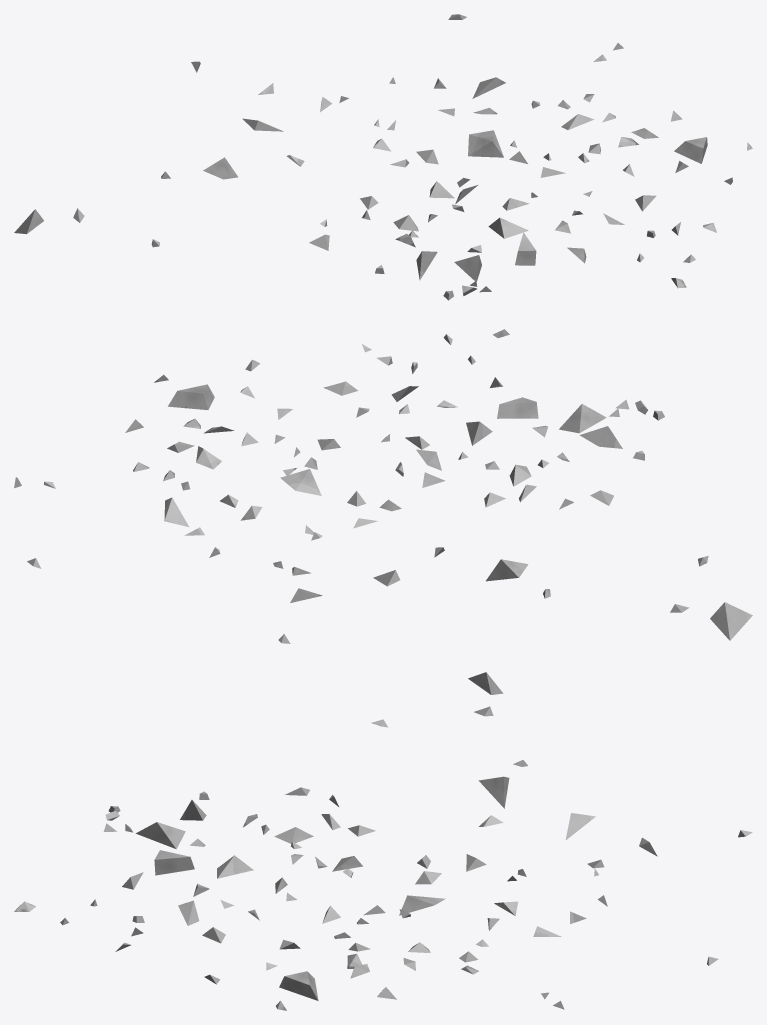
File: sculpted_pebbles_01.glb
The picture shows the model from 3 angles, top to bottom: view 1: azimuth 30°, elevation 25°; view 2: azimuth 150°, elevation 25°; view 3: azimuth 270°, elevation 25°; orthographic projection. The views are drawn at different scales.
Visible parts, largest first — view 1: sculpted_pebbles_01; view 2: sculpted_pebbles_01; view 3: sculpted_pebbles_01.
Part boxes in pixels (<box>): sculpted_pebbles_01: <box>14,14,752,300</box>; sculpted_pebbles_01: <box>14,329,752,643</box>; sculpted_pebbles_01: <box>14,672,752,1010</box>.
Size of the model in its own units: 1.09 by 0.0439 by 1.04.
1 material, 1 textured.
